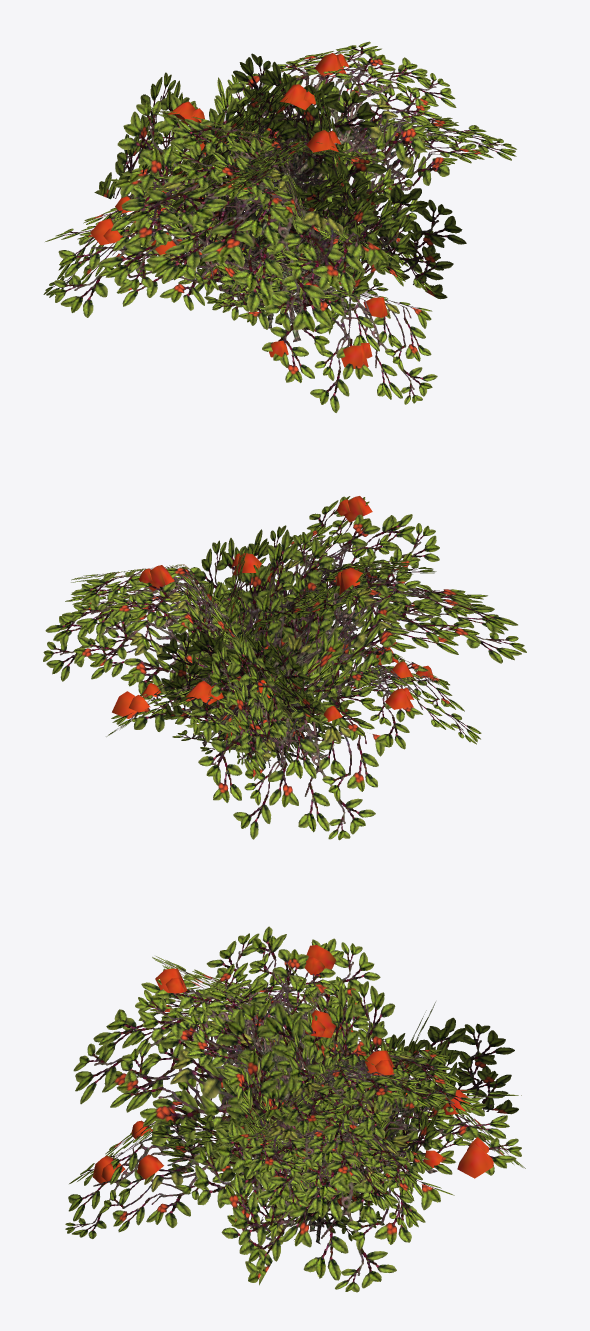
File: fruit_bush_v3.glb
3 views of the same model, one above another, from view 1: azimuth 30°, elevation 25°; view 2: azimuth 150°, elevation 25°; view 3: azimuth 270°, elevation 25° (orthographic). The views are drawn at different scales.
Parts seen in each view (by area): view 1: berry_bush; view 2: berry_bush; view 3: berry_bush.
Part boxes in pixels (<box>): berry_bush: <box>43,41,516,412</box>; berry_bush: <box>43,496,526,840</box>; berry_bush: <box>65,926,525,1292</box>.
Size of the model in its own units: 2.4 by 1.19 by 2.14.
1 material, 1 textured.
